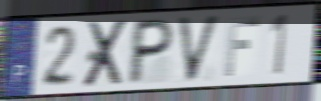1: (269, 12, 289, 78)
2: (40, 23, 79, 89)
F: (223, 16, 262, 79)
P: (125, 17, 177, 87)
V: (175, 13, 222, 85)
X: (81, 18, 131, 90)
